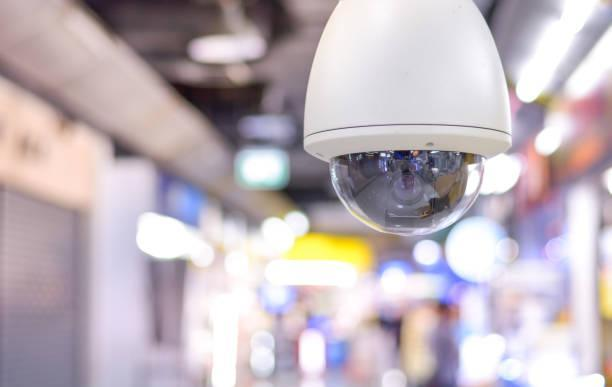camera: (272, 3, 530, 251)
